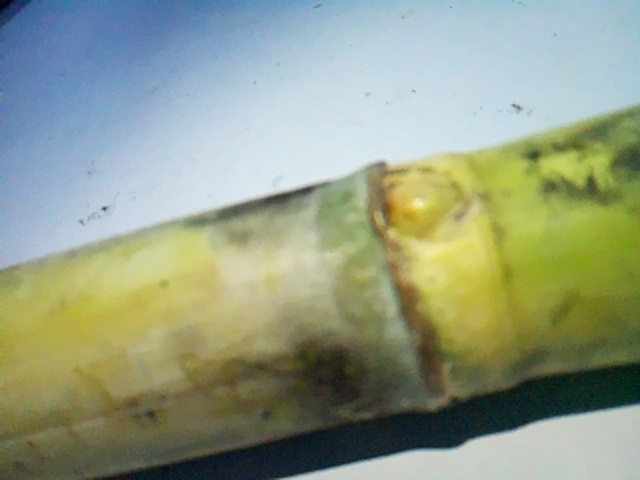Good Sugarcane: (5, 102, 633, 475)
Node: (313, 143, 519, 414)
